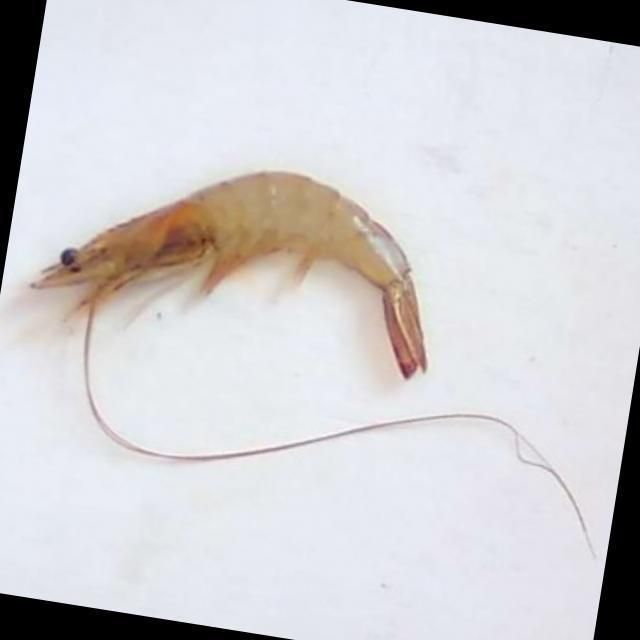shrimp: (30, 173, 427, 378)
